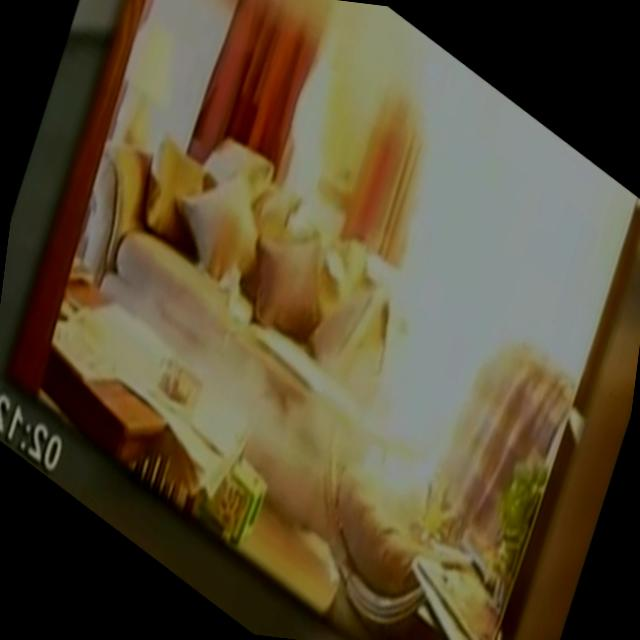fire: (267, 13, 640, 602)
